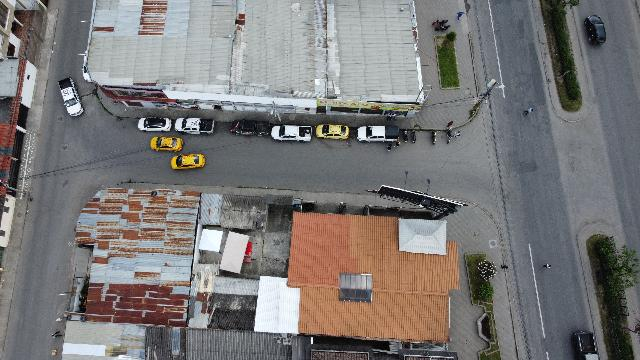Vehiculo: (58, 77, 84, 117), (571, 331, 599, 360), (356, 126, 399, 142), (272, 126, 312, 142), (175, 118, 215, 134), (230, 120, 270, 136), (584, 15, 606, 44), (171, 154, 205, 170), (150, 137, 183, 152), (316, 124, 348, 139), (137, 118, 171, 132)
